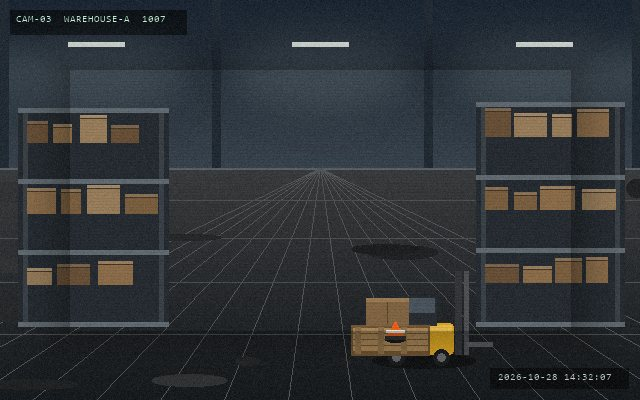cone: (384, 319, 406, 342)
forklift: (376, 270, 493, 368)
pallet: (349, 323, 431, 357)
shelf: (476, 102, 624, 322), (18, 108, 168, 322)
